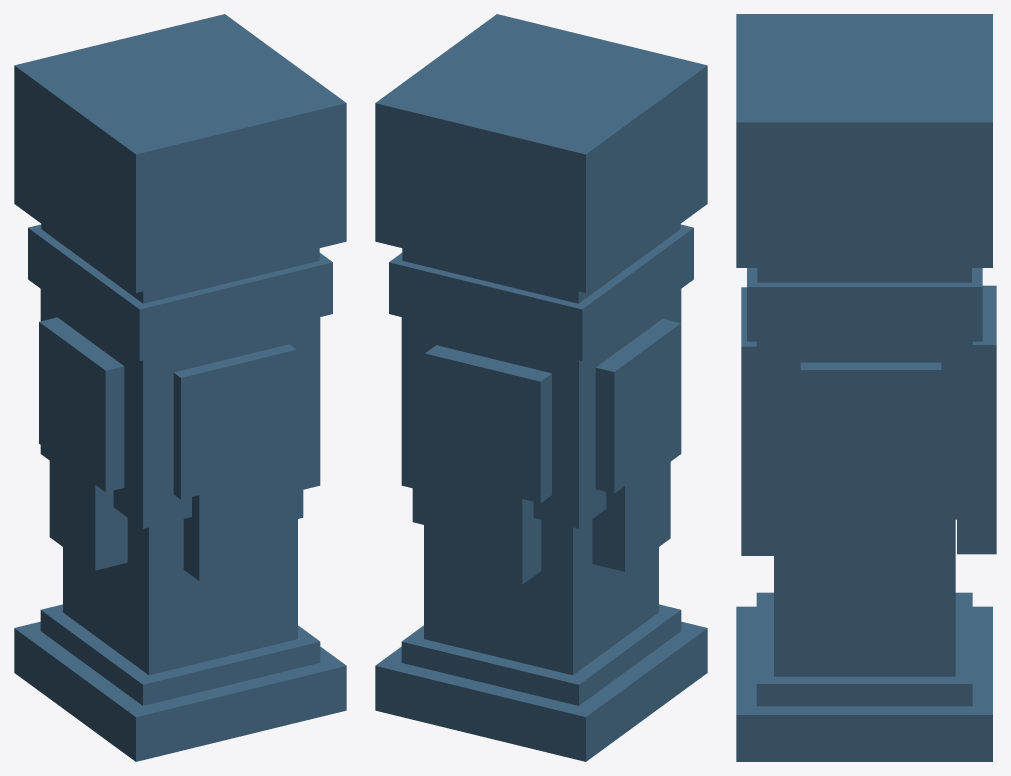
File: totem_cuadrado.fbx
3 renders of one model, left to right at view 1: azimuth 30°, elevation 25°; view 2: azimuth 150°, elevation 25°; view 3: azimuth 270°, elevation 25°, orthographic. The views are drawn at different scales.
Visible parts, largest first — view 1: Cuadrado; view 2: Cuadrado; view 3: Cuadrado.
Part boxes in pixels (left/top/right/bottom): Cuadrado: left=14, top=14, right=346, bottom=761; Cuadrado: left=375, top=14, right=707, bottom=761; Cuadrado: left=736, top=14, right=996, bottom=761.
Size of the model in its own units: 11.81 by 32.24 by 11.89.
